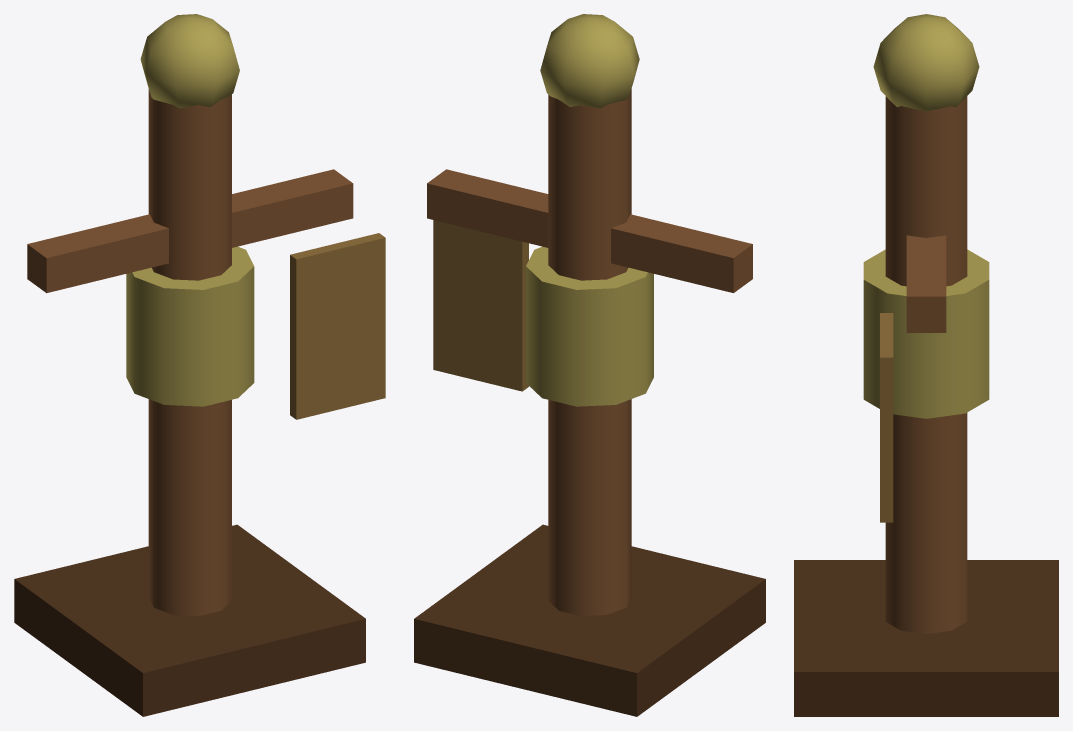
The model's file is im_training_post.glb.
The picture shows the model from 3 angles, left to right: view 1: azimuth 30°, elevation 25°; view 2: azimuth 150°, elevation 25°; view 3: azimuth 270°, elevation 25°; orthographic projection. The views are drawn at different scales.
Visible parts, largest first — view 1: im_training_post; view 2: im_training_post; view 3: im_training_post.
Boxes of the visible parts, x1,y1,x2,y2 form: im_training_post: (14,14,385,716); im_training_post: (414,14,765,716); im_training_post: (794,14,1058,716).
Size of the model in its own units: 1.17 by 2.14 by 0.8.
